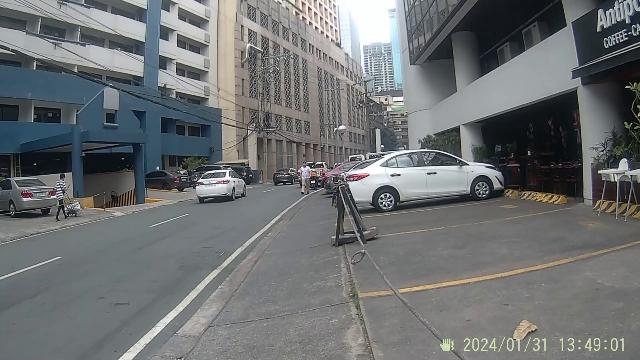car: (346, 146, 507, 214)
